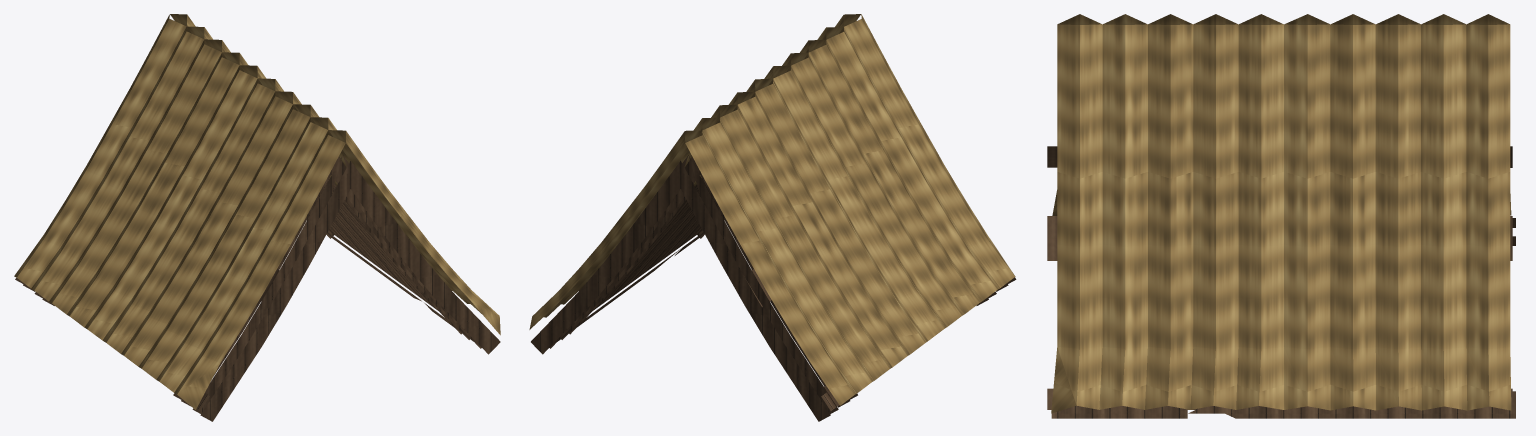
File: Roof_Thatch_4x4_LOD1.gltf
3 renders of one model, left to right at view 1: azimuth 30°, elevation 25°; view 2: azimuth 150°, elevation 25°; view 3: azimuth 270°, elevation 25°, orthographic. The views are drawn at different scales.
Visible parts, largest first — view 1: Roof_Thatch_4x4_LOD1; view 2: Roof_Thatch_4x4_LOD1; view 3: Roof_Thatch_4x4_LOD1.
Boxes of the visible parts, box(x1,y1,x2,y2) form: Roof_Thatch_4x4_LOD1: box(14, 14, 500, 421); Roof_Thatch_4x4_LOD1: box(529, 14, 1016, 421); Roof_Thatch_4x4_LOD1: box(1047, 14, 1515, 418).
Size of the model in its own units: 5.51 by 4.01 by 5.49.
Materials: 2 (2 with a texture image).
